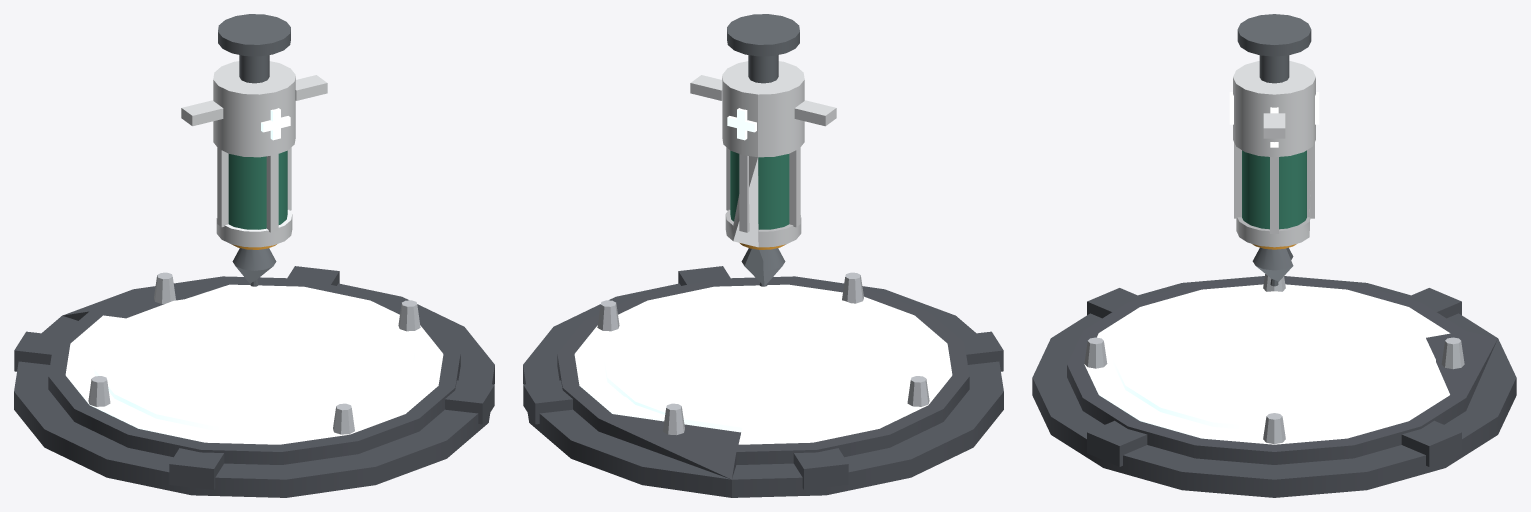
The model's file is PowerUp_Health.fbx.
3 views of the same model, side by side, from view 1: azimuth 30°, elevation 25°; view 2: azimuth 150°, elevation 25°; view 3: azimuth 270°, elevation 25° (orthographic).
Parts seen in each view (by area): view 1: Health_Pedestal_GlowRing, Health_Pedestal_Chassis, Health_Stim_Body, Health_Stim_Hardware, Health_Stim_GlassChamber, Health_Pedestal_Pylons, Health_Stim_EmissiveAccents; view 2: Health_Pedestal_GlowRing, Health_Pedestal_Chassis, Health_Stim_Body, Health_Stim_Hardware, Health_Stim_GlassChamber, Health_Pedestal_Pylons, Health_Stim_EmissiveAccents; view 3: Health_Pedestal_GlowRing, Health_Pedestal_Chassis, Health_Stim_Body, Health_Stim_Hardware, Health_Stim_GlassChamber, Health_Pedestal_Pylons.
Part boxes in pixels (x1=…): Health_Pedestal_GlowRing: x1=65, y1=284, x2=443, y2=444; Health_Pedestal_Chassis: x1=14, y1=266, x2=494, y2=497; Health_Stim_Body: x1=181, y1=61, x2=327, y2=247; Health_Stim_Hardware: x1=218, y1=14, x2=290, y2=286; Health_Stim_GlassChamber: x1=228, y1=150, x2=287, y2=229; Health_Pedestal_Pylons: x1=88, y1=272, x2=420, y2=434; Health_Stim_EmissiveAccents: x1=261, y1=108, x2=290, y2=140; Health_Pedestal_GlowRing: x1=574, y1=284, x2=952, y2=444; Health_Pedestal_Chassis: x1=523, y1=266, x2=1003, y2=497; Health_Stim_Body: x1=690, y1=61, x2=836, y2=247; Health_Stim_Hardware: x1=727, y1=14, x2=799, y2=286; Health_Stim_GlassChamber: x1=730, y1=150, x2=789, y2=229; Health_Pedestal_Pylons: x1=597, y1=272, x2=929, y2=435; Health_Stim_EmissiveAccents: x1=727, y1=108, x2=756, y2=140; Health_Pedestal_GlowRing: x1=1084, y1=284, x2=1450, y2=444; Health_Pedestal_Chassis: x1=1032, y1=276, x2=1516, y2=497; Health_Stim_Body: x1=1233, y1=61, x2=1315, y2=247; Health_Stim_Hardware: x1=1237, y1=14, x2=1311, y2=286; Health_Stim_GlassChamber: x1=1242, y1=150, x2=1306, y2=229; Health_Pedestal_Pylons: x1=1084, y1=274, x2=1464, y2=443.
Bounding box in the file's own units: 0.84 × 0.701 × 0.84.
